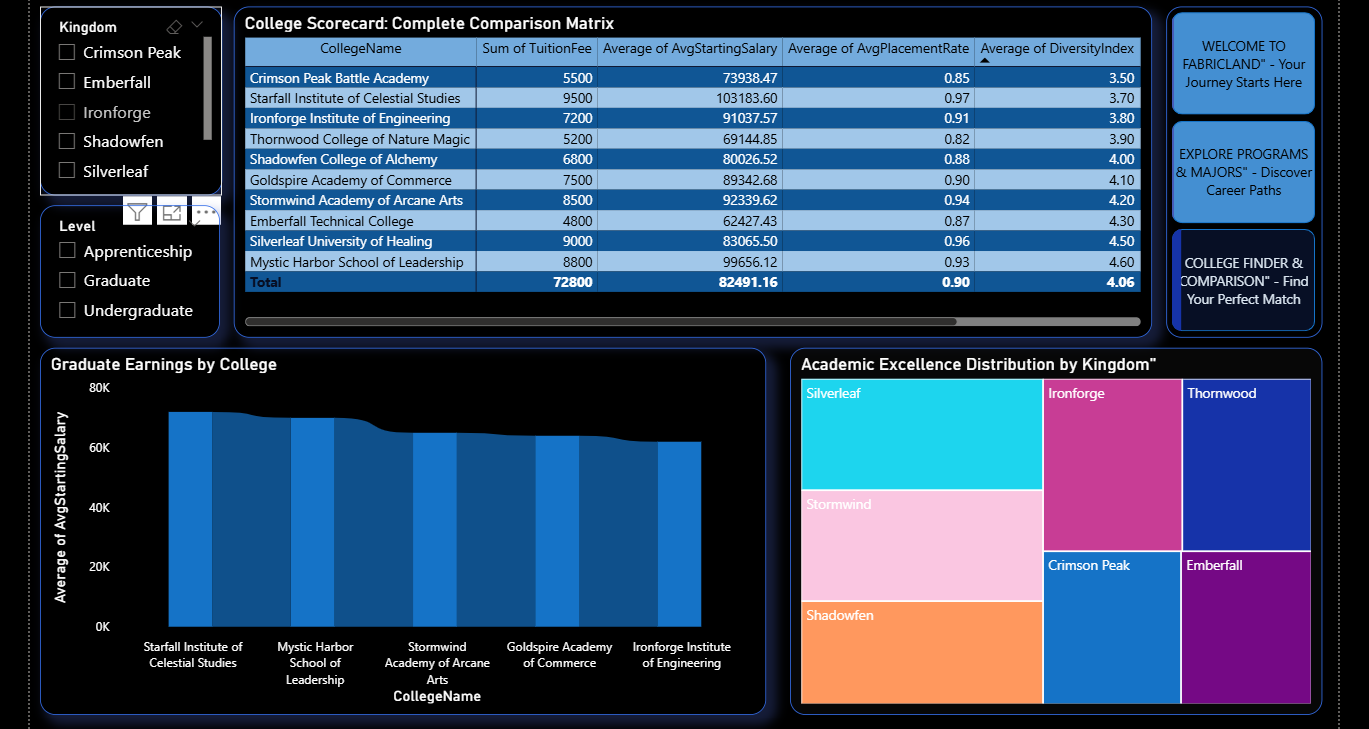

The page's visual inventory and layout, read from the dashboard file:
{"tool":"powerbi","page":{"name":"COLLEGE FINDER & COMPARISON\" - Find Your Perfect Match","canvas":[1280,720],"ordinal":2},"visuals":[{"type":"slicer","fields":{"Values":["College_Profiles.Kingdom"]},"box":[9.8,12.2,178.5,184.6],"z":0},{"type":"pivotTable","title":"College Scorecard: Complete Comparison Matrix","fields":{"Rows":["College_Profiles.CollegeName"],"Values":["Sum(College_Profiles.TuitionFee)","Avg(Programs_Majors.AvgStartingSalary)","Avg(College_Profiles.AvgPlacementRate)","Avg(College_Profiles.DiversityIndex)","Min(College_Profiles.ScholarshipAvailability)"]},"box":[199.3,12.2,898.8,324.1],"z":1000},{"type":"ribbonChart","title":"Graduate Earnings by College","fields":{"Category":["College_Profiles.CollegeName"],"Y":["Avg(College_Profiles.AvgStartingSalary)"]},"box":[9.8,346.1,710.5,359.5],"z":2000},{"type":"treemap","title":"Academic Excellence Distribution by Kingdom\"","fields":{"Group":["College_Profiles.Kingdom"],"Values":["Avg(College_Profiles.MagicScore)"]},"box":[743.5,346.1,520.9,359.5],"z":3000},{"type":"slicer","fields":{"Values":["Programs_Majors.Level"]},"box":[9.8,206.7,176.1,129.6],"z":4000},{"type":"pageNavigator","box":[1111.6,12.2,152.9,324.1],"z":4001}]}

Visuals, with their boxes on the page's 1280x720 design canvas (x1, y1, x2, y2). These are canvas units, not pixel positions in the 1369x729 screenshot, which may show the page scaled, cropped or inside an application window:
slicer - College_Profiles.Kingdom: pyautogui.locateOnScreen(10, 12, 188, 197)
"College Scorecard: Complete Comparison Matrix" pivotTable: pyautogui.locateOnScreen(199, 12, 1098, 336)
"Graduate Earnings by College" ribbonChart: pyautogui.locateOnScreen(10, 346, 720, 706)
"Academic Excellence Distribution by Kingdom"" treemap: pyautogui.locateOnScreen(744, 346, 1264, 706)
slicer - Programs_Majors.Level: pyautogui.locateOnScreen(10, 207, 186, 336)
pageNavigator: pyautogui.locateOnScreen(1112, 12, 1264, 336)
